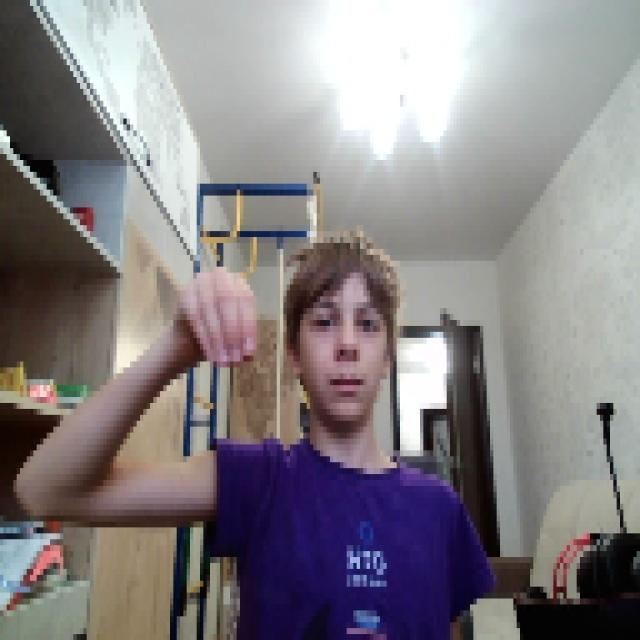left_click: (174, 261, 254, 361)
